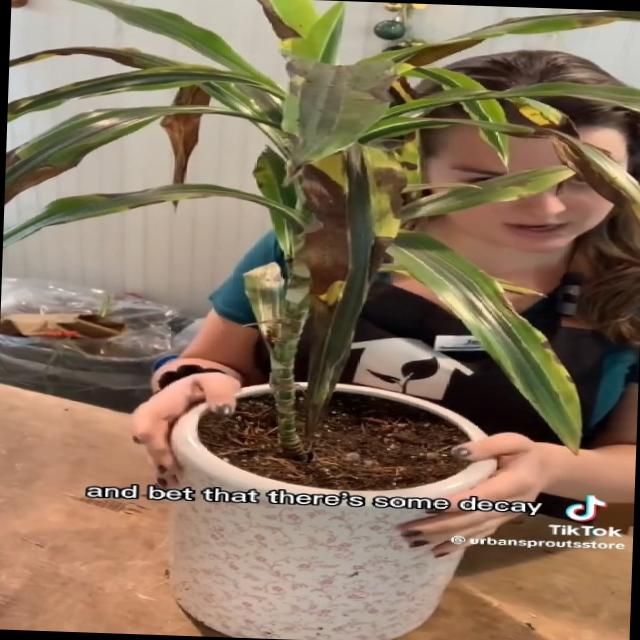lisc_suchy: (422, 287, 582, 457), (4, 104, 270, 196), (59, 0, 276, 88), (474, 123, 640, 226), (363, 11, 640, 65), (7, 67, 276, 121), (280, 61, 396, 182), (391, 166, 578, 226), (297, 148, 351, 326), (2, 189, 156, 244), (359, 140, 419, 267), (158, 85, 208, 213), (251, 0, 341, 65), (9, 48, 199, 70)
roslina_sucha: (2, 0, 640, 458)
